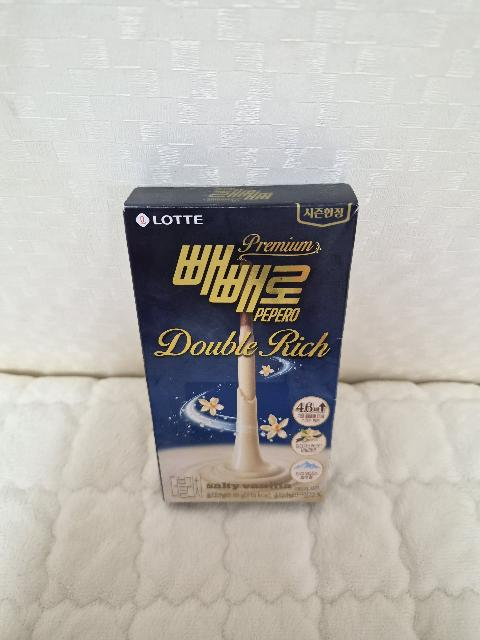pepero: (123, 183, 359, 502)
